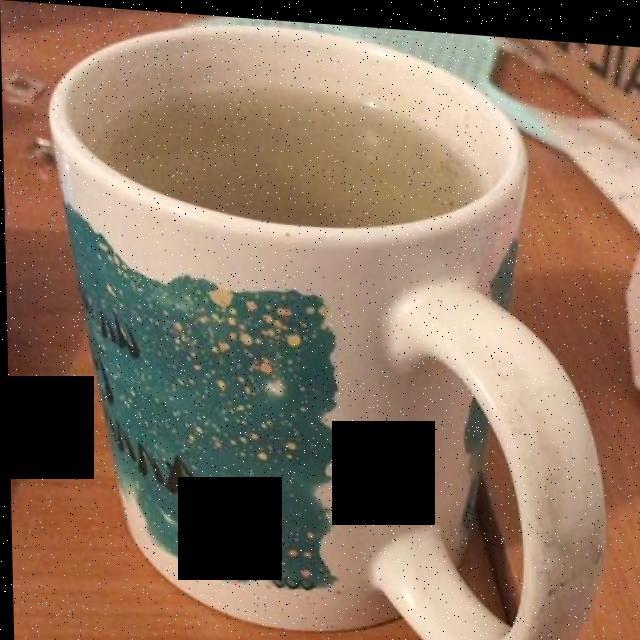tea: (91, 58, 473, 255)
